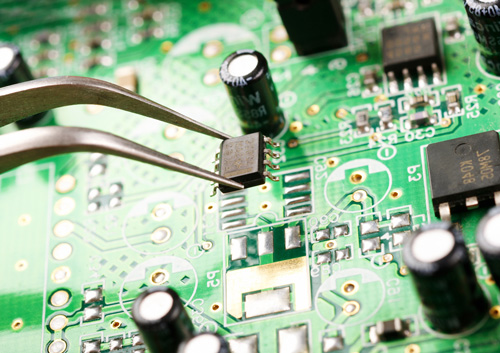capacitor: (397, 215, 485, 332), (216, 38, 294, 144), (128, 286, 190, 335)
